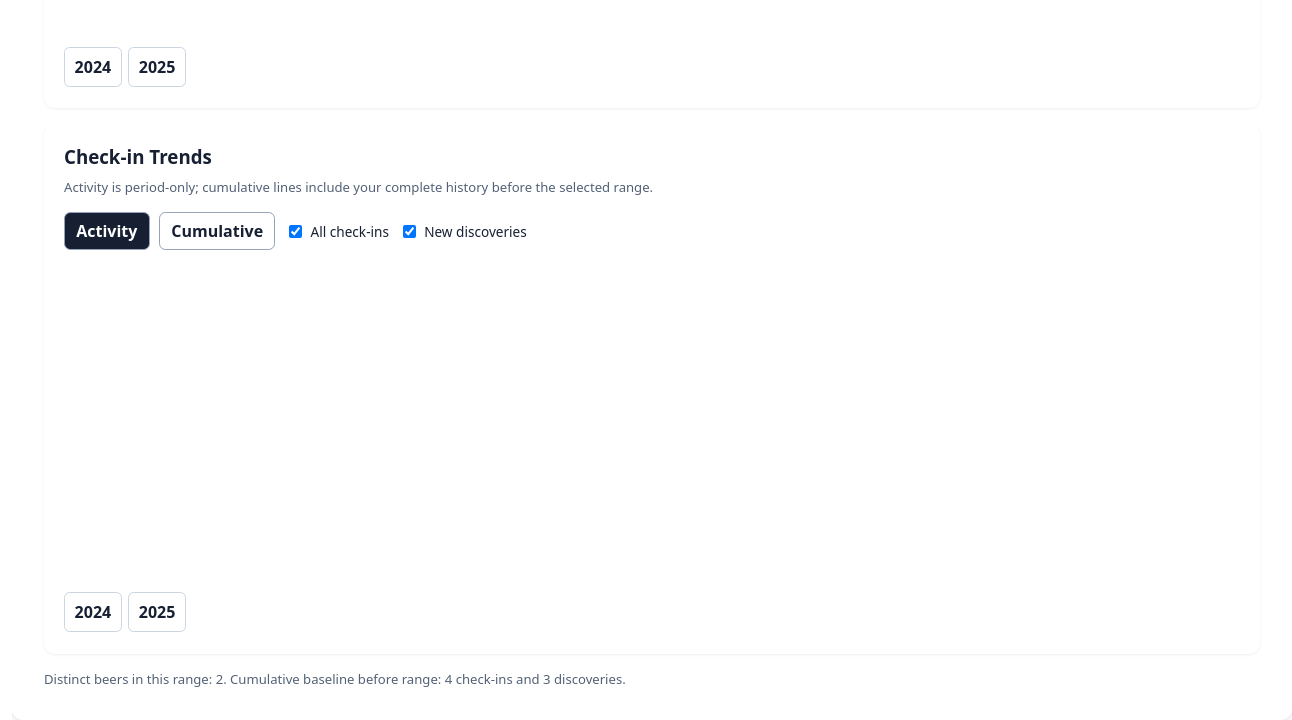
it: drills from both charts through shared annual, monthly, and daily views
(page scrolled)
Click the button named "Open 2025".
click(157, 612)  # box [128, 592, 186, 632]
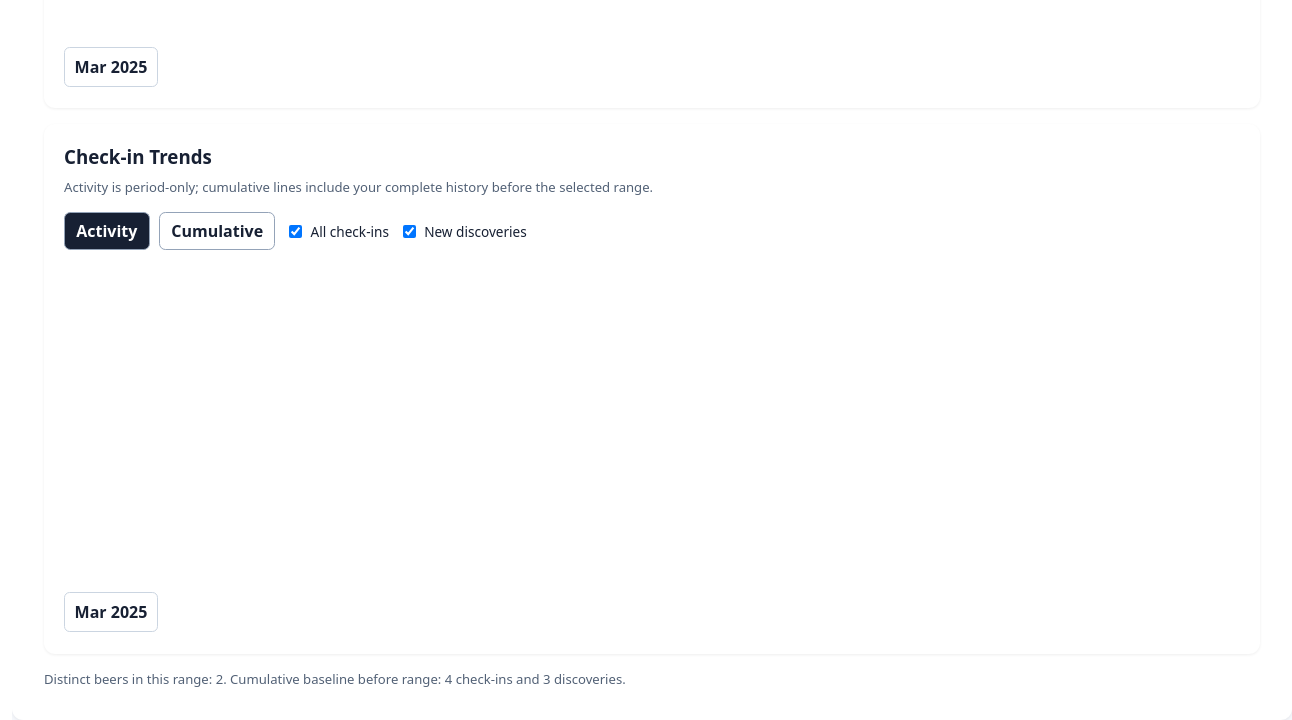
Click the button with aria-label "Open Mar 2025".
click(111, 612)  # box [64, 592, 158, 632]
(page scrolled)
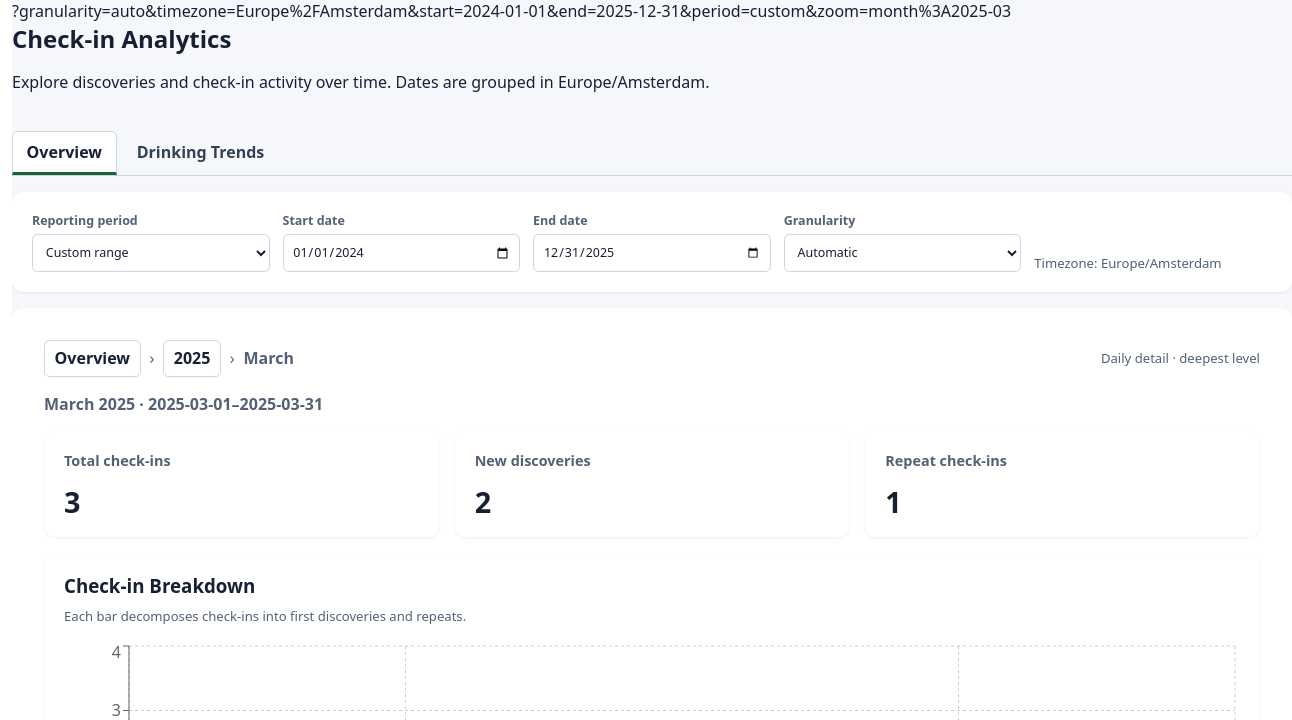
Check: the text "3" is shown, box [64, 482, 80, 521]
Check: the navigation bar named "Analytics drilldown" shows "March", box [244, 347, 294, 369]
Check: the text "Daily detail · deepest level" is shown, box [1101, 349, 1260, 367]
